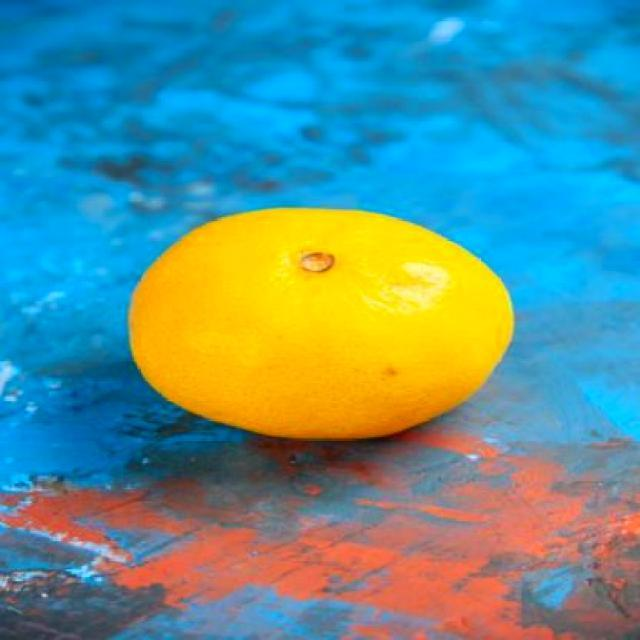Jeruk Sudah Matang: (130, 207, 521, 441)
